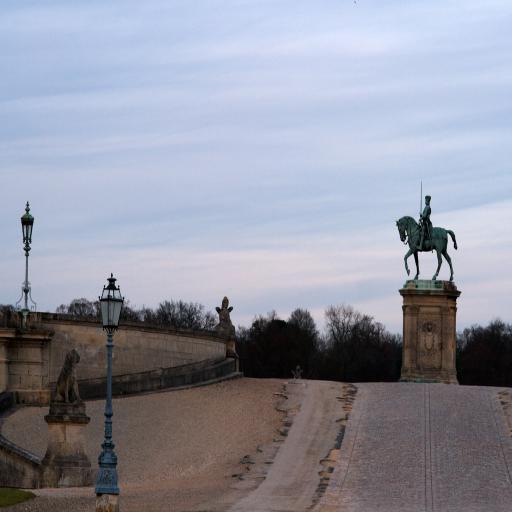Horse: (396, 213, 458, 283)
